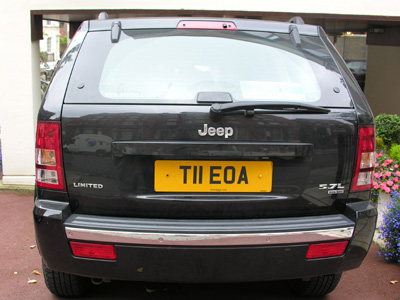licencePlate: (154, 159, 274, 192)
